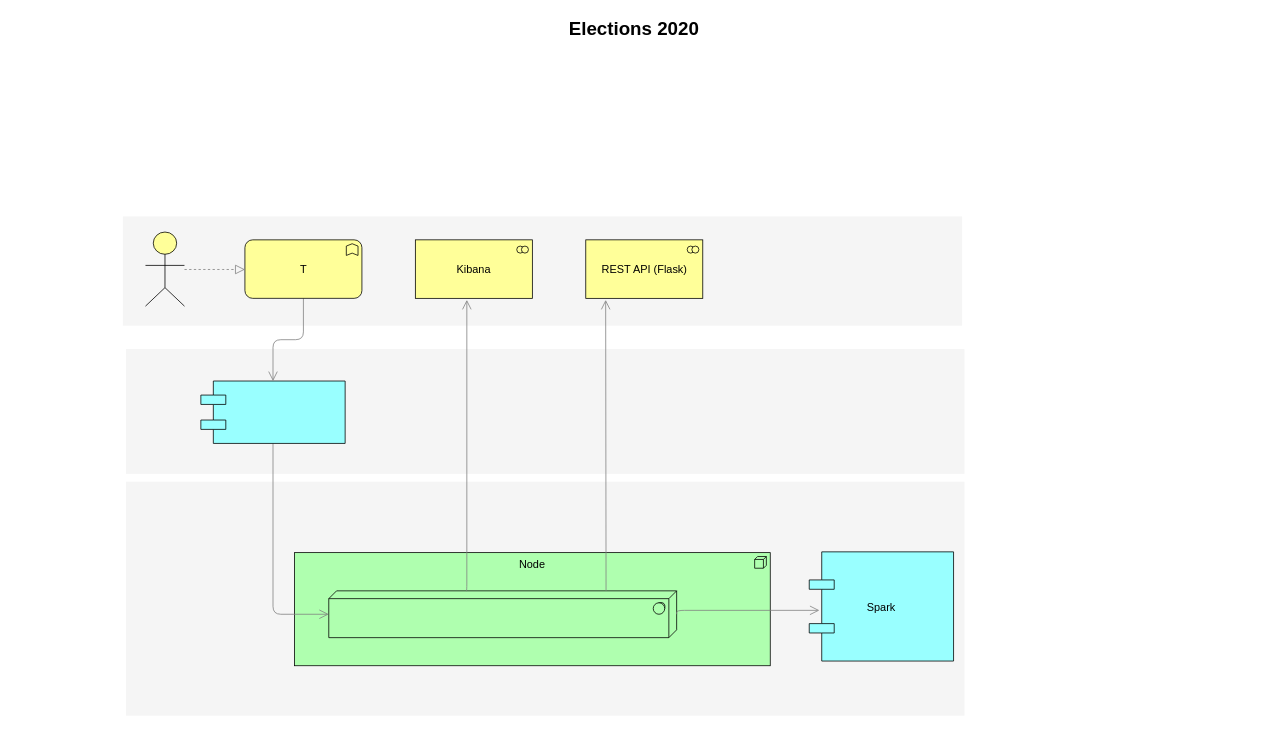
Some shapes in this 1267 by 729 pixel diagram are drawn without their labels. Each missing label, with the centre of its shape:
"Elasticsearch" goes at pixel 502 614.
"Logstash" goes at pixel 272 411.
